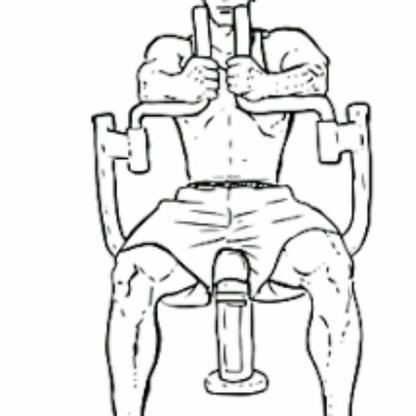chest fly machine: (67, 0, 379, 416)
